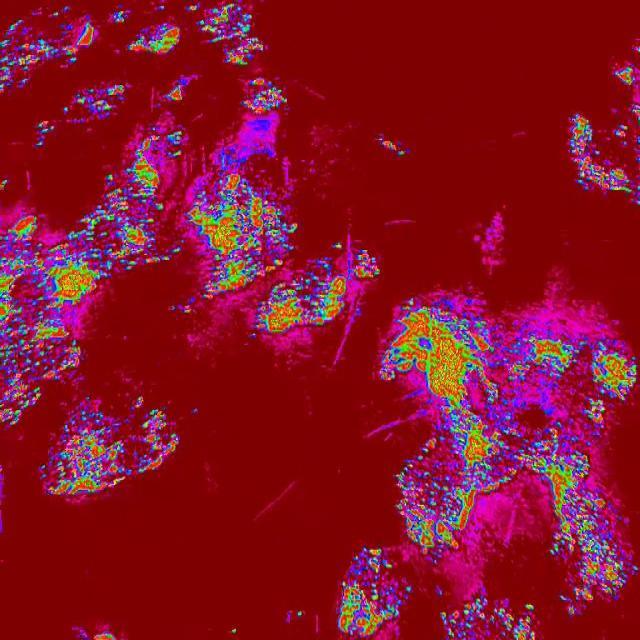fire: (377, 296, 640, 546), (183, 170, 380, 338), (40, 394, 184, 498), (81, 168, 156, 292), (0, 4, 97, 91), (0, 214, 39, 422), (568, 100, 640, 204), (336, 549, 414, 640), (548, 548, 640, 620), (40, 238, 82, 380), (200, 0, 264, 68), (438, 601, 539, 640), (75, 80, 133, 121), (132, 126, 186, 166), (240, 76, 288, 115), (120, 24, 181, 54), (379, 134, 410, 161), (421, 548, 457, 570), (613, 61, 639, 88), (162, 79, 190, 103), (33, 119, 56, 148), (154, 243, 183, 264), (74, 627, 116, 640), (110, 6, 133, 24), (68, 228, 82, 238), (0, 176, 8, 190), (631, 41, 640, 51), (185, 5, 199, 11), (296, 608, 304, 618), (192, 406, 200, 415), (437, 587, 443, 598), (230, 628, 238, 636), (62, 104, 69, 112), (168, 304, 175, 310)
